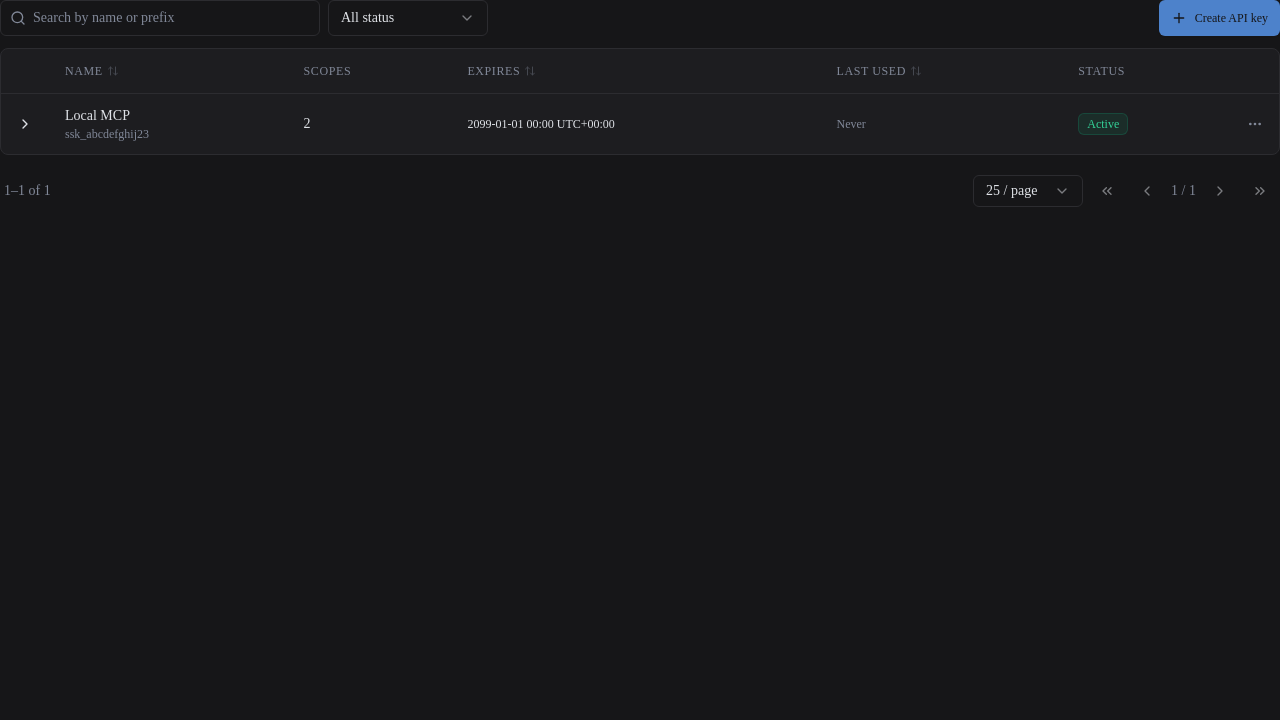
Test case: revoke › does nothing when the confirmation is cancelled
This screenshot has width=1280, height=720.
Check: the text "Local MCP" is shown, box [65,108,130,122]
Step 1. Press . in the text "Local MCP", box [1,93,1279,154]
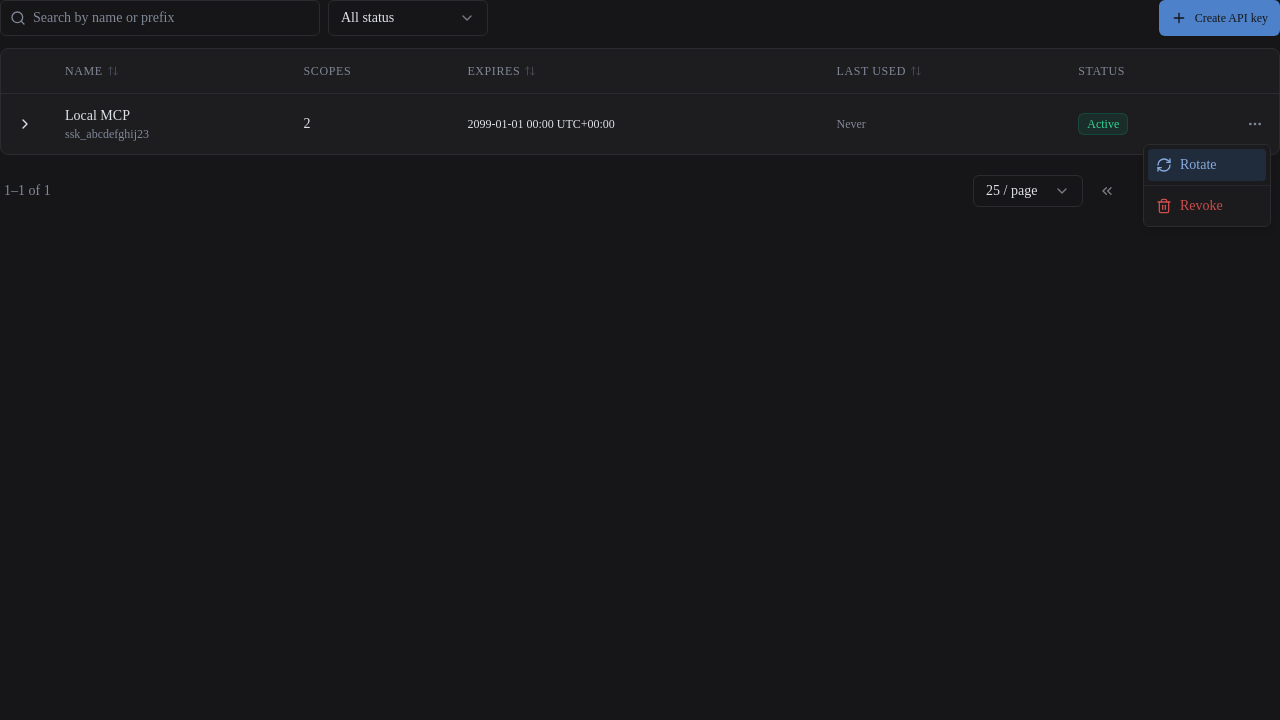
Step 2. Click the menu item "Revoke" → [1189, 206], box [1156,198,1223,214]
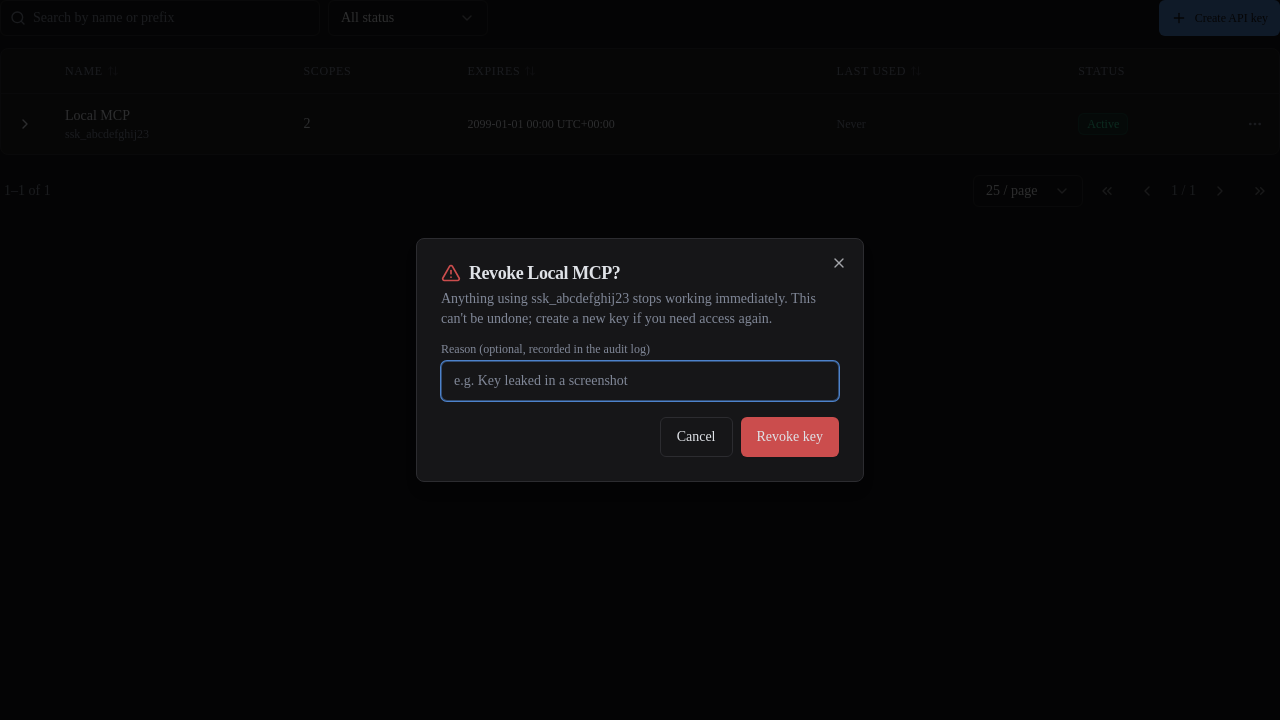
Step 3. Click the button "Cancel" → [696, 437], box [660,417,732,457]
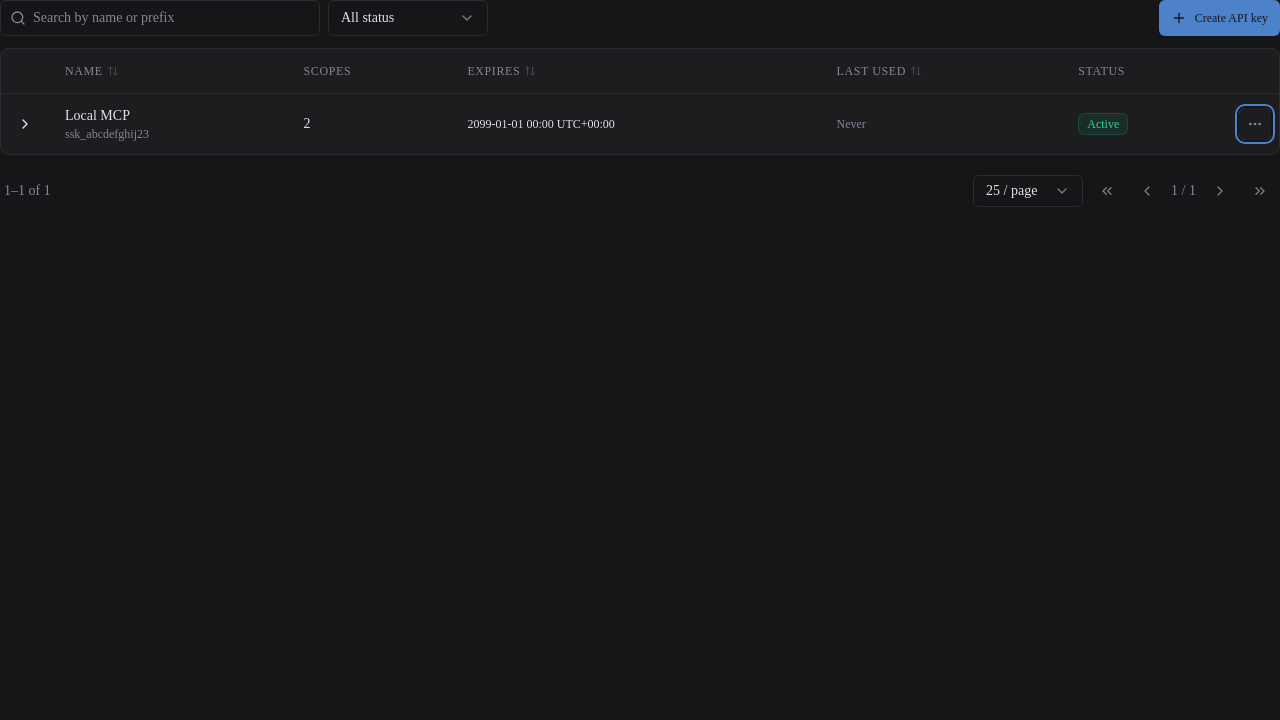
Check: the dialog is gone
